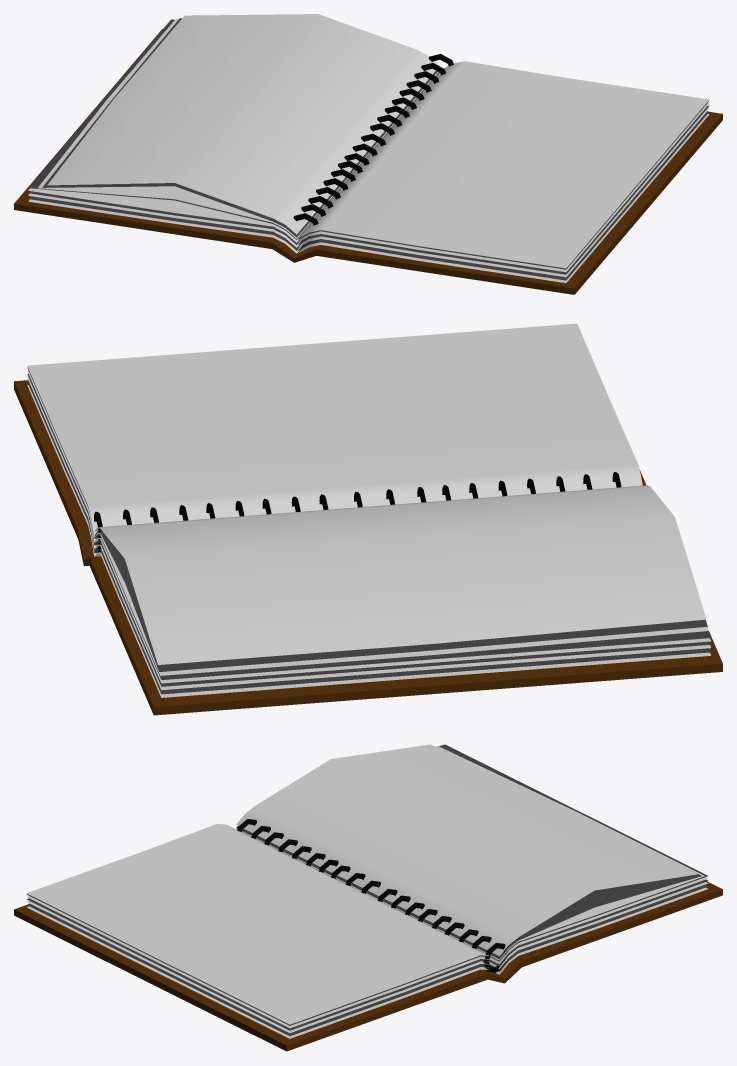
File: Caderno.fbx
3 renders of one model, top to bottom at view 1: azimuth 30°, elevation 25°; view 2: azimuth 150°, elevation 25°; view 3: azimuth 270°, elevation 25°, orthographic. The views are drawn at different scales.
Parts seen in each view (by area): view 1: pTorus44; view 2: pTorus44; view 3: pTorus44.
Boxes of the visible parts, box(x1,y1,x2,y2) form: pTorus44: box(14, 14, 722, 294); pTorus44: box(14, 323, 722, 715); pTorus44: box(14, 744, 722, 1051).
Size of the model in its own units: 0.9314 by 0.0839 by 0.955.
